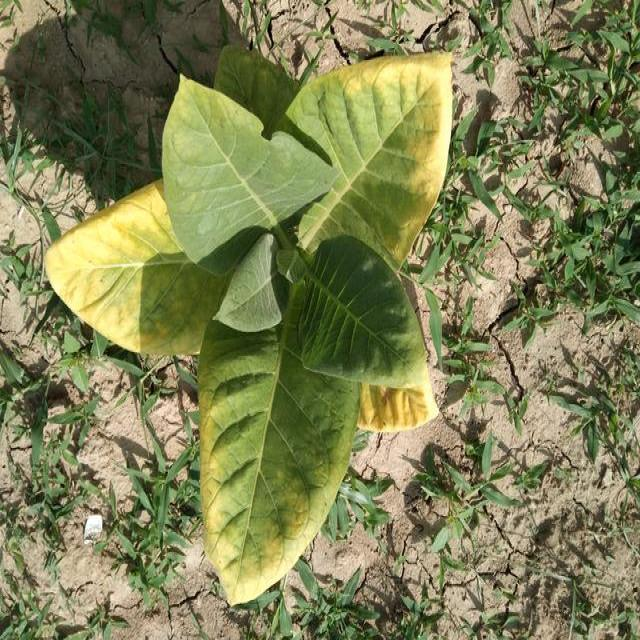crop: (38, 43, 454, 608)
